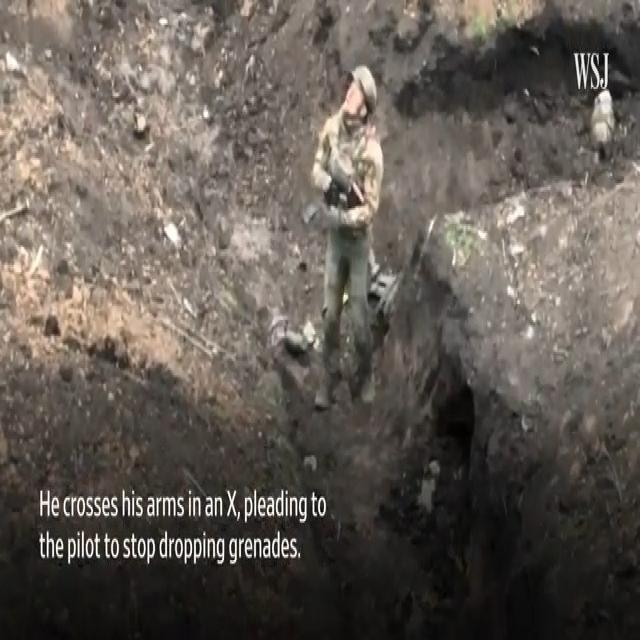MIL_Pax: (312, 67, 384, 409)
